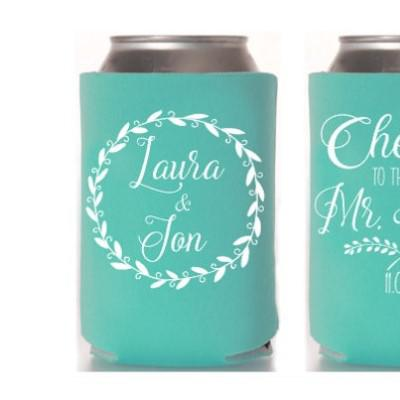beer: (77, 33, 277, 362)
